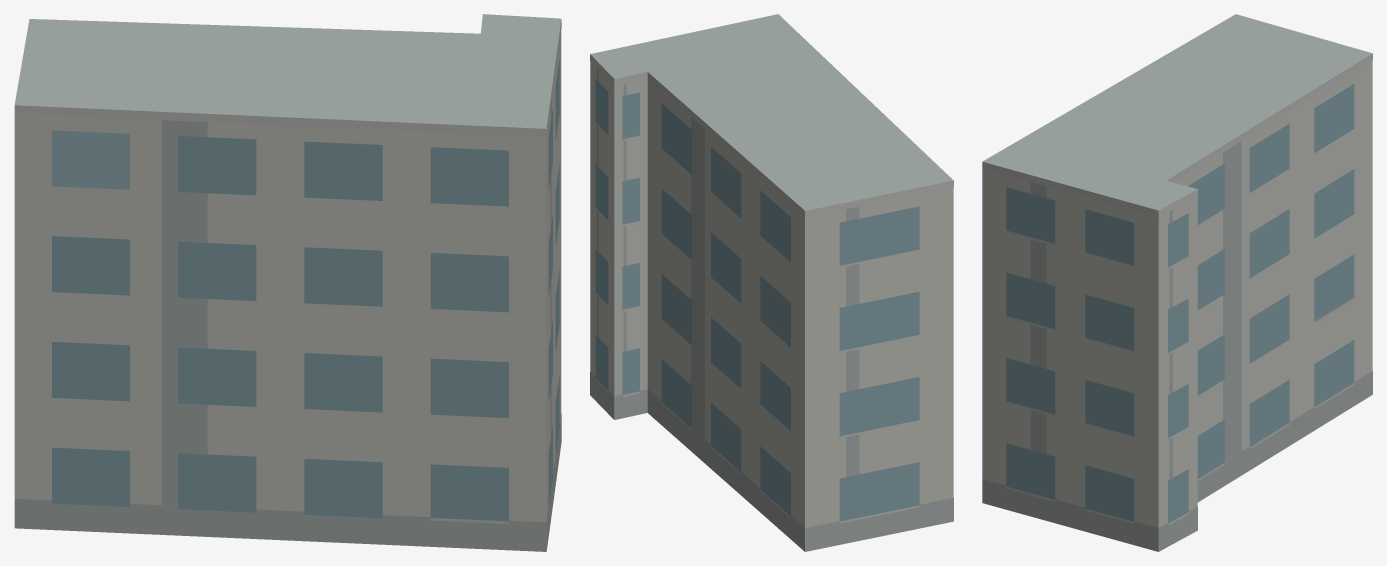
File: residential-b3de8292-6a67-4d3b-bb50-08c1a35f09ea.glb
3 views of the same model, side by side, from view 1: azimuth 30°, elevation 25°; view 2: azimuth 150°, elevation 25°; view 3: azimuth 270°, elevation 25° (orthographic). The views are drawn at different scales.
Parts seen in each view (by area): view 1: residential-b3de8292-6a67-4d3b-bb50-08c1a35f09ea.tmp; view 2: residential-b3de8292-6a67-4d3b-bb50-08c1a35f09ea.tmp; view 3: residential-b3de8292-6a67-4d3b-bb50-08c1a35f09ea.tmp.
Boxes of the visible parts, <box> form: residential-b3de8292-6a67-4d3b-bb50-08c1a35f09ea.tmp: <box>14,14,561,551</box>; residential-b3de8292-6a67-4d3b-bb50-08c1a35f09ea.tmp: <box>590,14,953,551</box>; residential-b3de8292-6a67-4d3b-bb50-08c1a35f09ea.tmp: <box>982,14,1372,551</box>.
Size of the model in its own units: 15.07 by 12.2 by 12.66.
